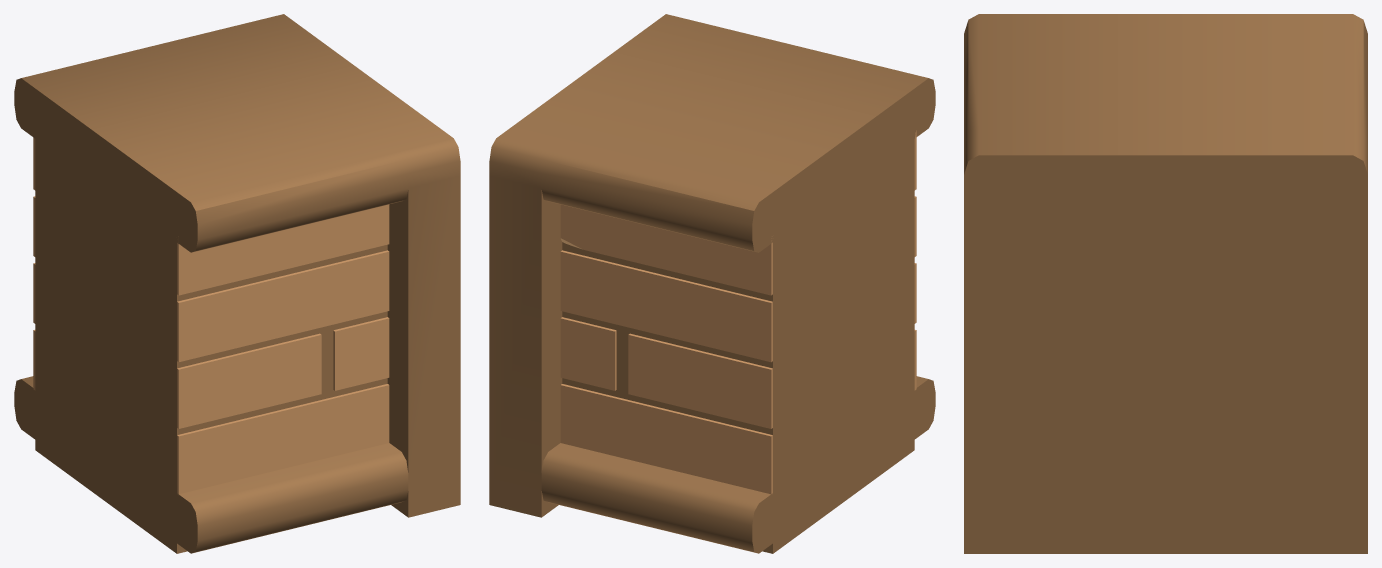
File: Environment_Counter_End.fbx
The picture shows the model from 3 angles, left to right: view 1: azimuth 30°, elevation 25°; view 2: azimuth 150°, elevation 25°; view 3: azimuth 270°, elevation 25°; orthographic projection. The views are drawn at different scales.
Parts seen in each view (by area): view 1: Environment_Counter_End; view 2: Environment_Counter_End; view 3: Environment_Counter_End.
Boxes of the visible parts, box(x1,y1,x2,y2) form: Environment_Counter_End: box(14, 14, 460, 553); Environment_Counter_End: box(489, 14, 935, 553); Environment_Counter_End: box(964, 14, 1367, 553).
Bounding box in the file's own units: 146 × 192 × 177.
